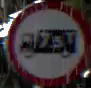Heavy Vehicles: (6, 1, 86, 87)
